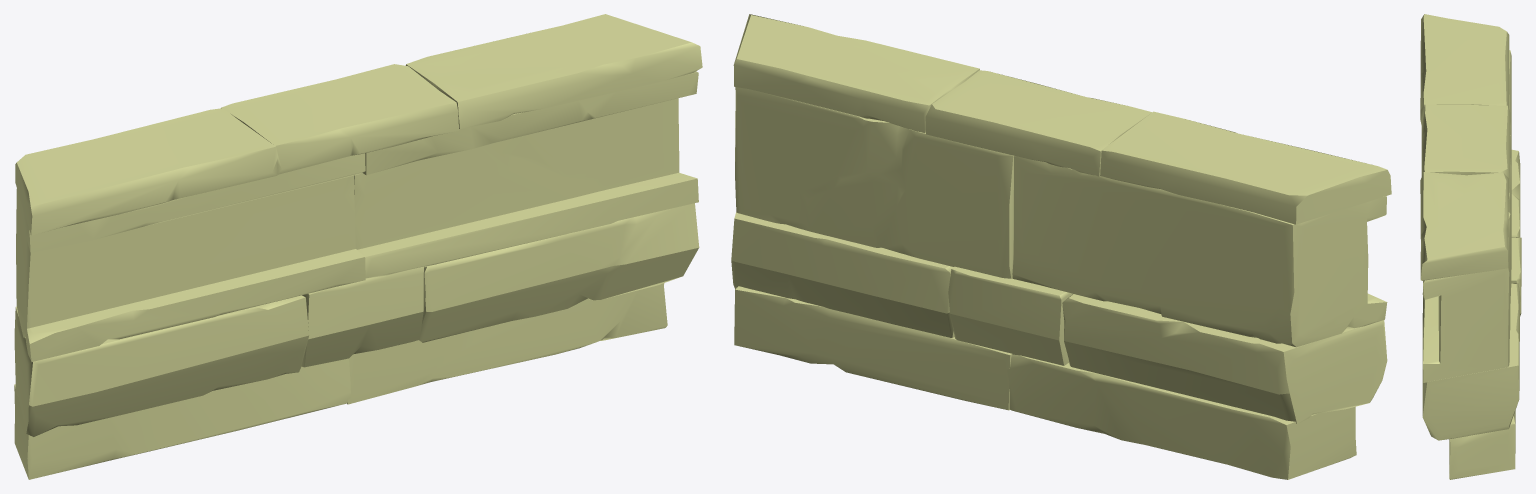
The model's file is Bariere_short_04.fbx.
3 renders of one model, left to right at view 1: azimuth 30°, elevation 25°; view 2: azimuth 150°, elevation 25°; view 3: azimuth 270°, elevation 25°, orthographic. The views are drawn at different scales.
Visible parts, largest first — view 1: Bariere_short_04_LOD0; view 2: Bariere_short_04_LOD0; view 3: Bariere_short_04_LOD0.
Part boxes in pixels (left/top/right/bottom): Bariere_short_04_LOD0: left=14, top=14, right=702, bottom=479; Bariere_short_04_LOD0: left=731, top=14, right=1391, bottom=479; Bariere_short_04_LOD0: left=1420, top=14, right=1521, bottom=479.
Size of what is drawn, in the model's own units: 354 by 148 by 60.56.
